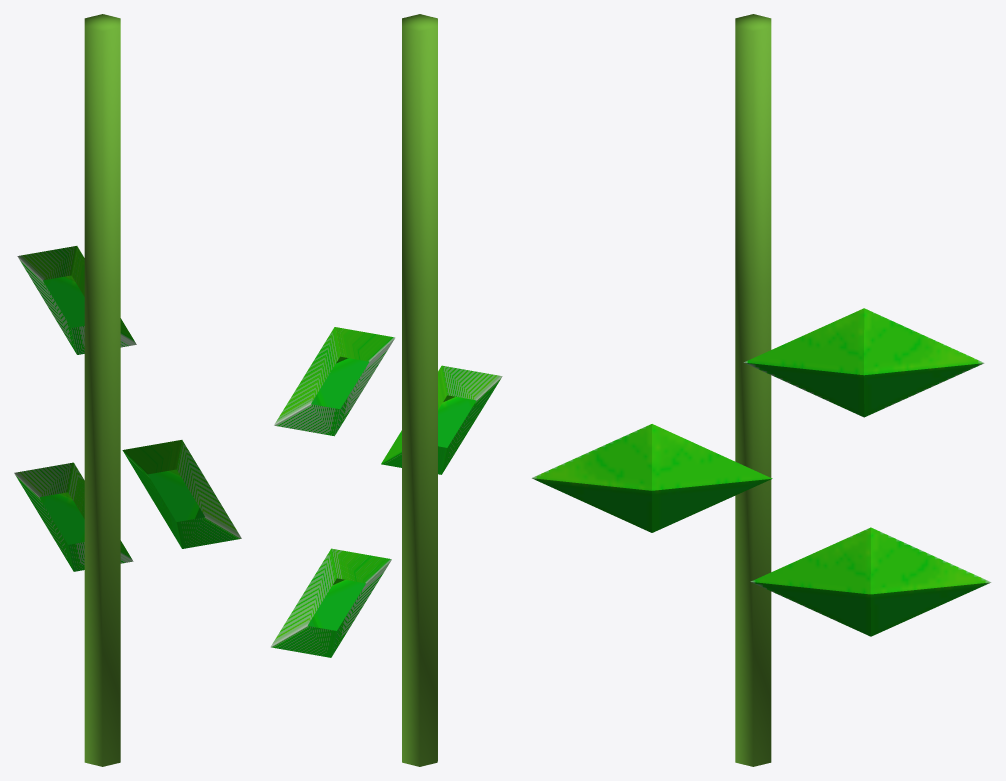
Rendered from GreenHillSunflowerBase.obj.
3 views of the same model, side by side, from view 1: azimuth 30°, elevation 25°; view 2: azimuth 150°, elevation 25°; view 3: azimuth 270°, elevation 25° (orthographic).
Bounding box in the file's own units: 1.69 × 16.24 × 9.21.
1 material, 1 textured.
